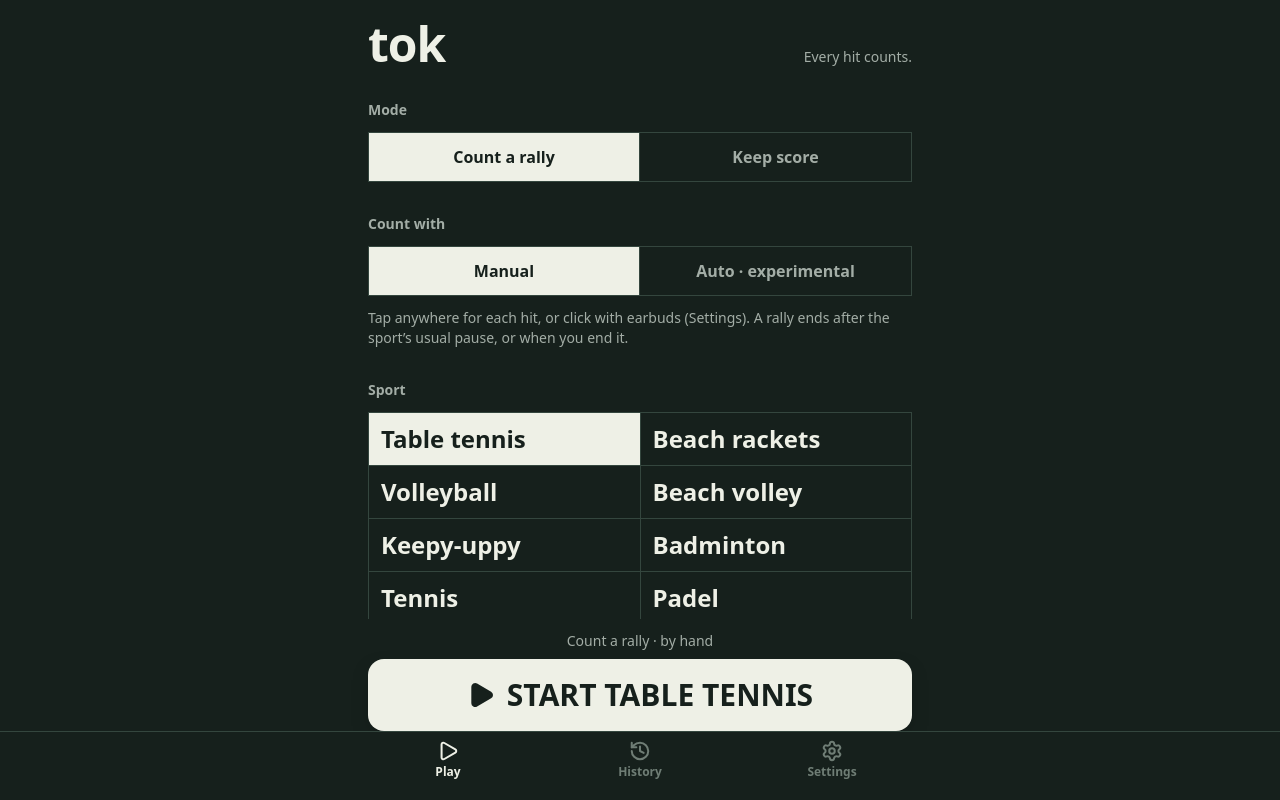
it: the counting mode can be switched mid-session without losing the rally
The width and height of the screenshot is (1280, 800).
Click the button "Start table tennis". click: (640, 695)
box: [368,659,912,731]
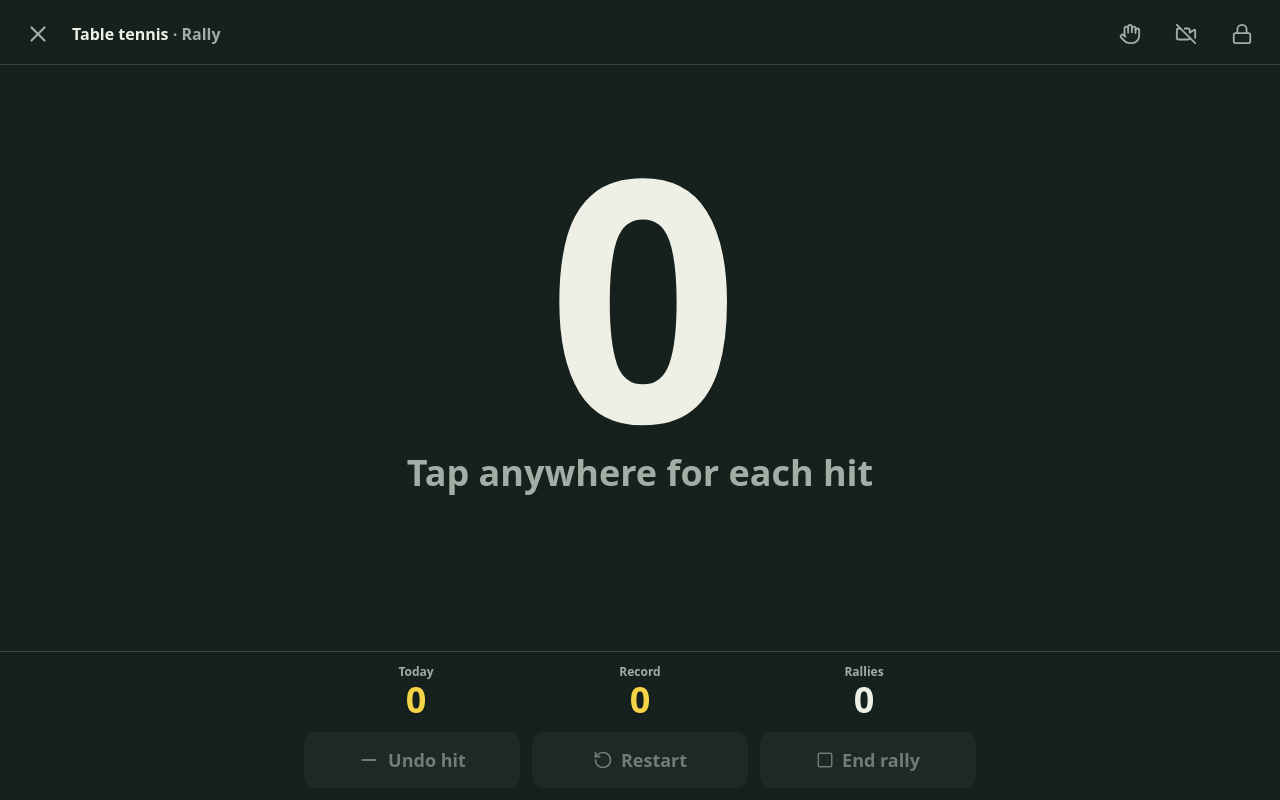
Click the button named "add a hit". click: (640, 358)
box: [0,65,1279,651]
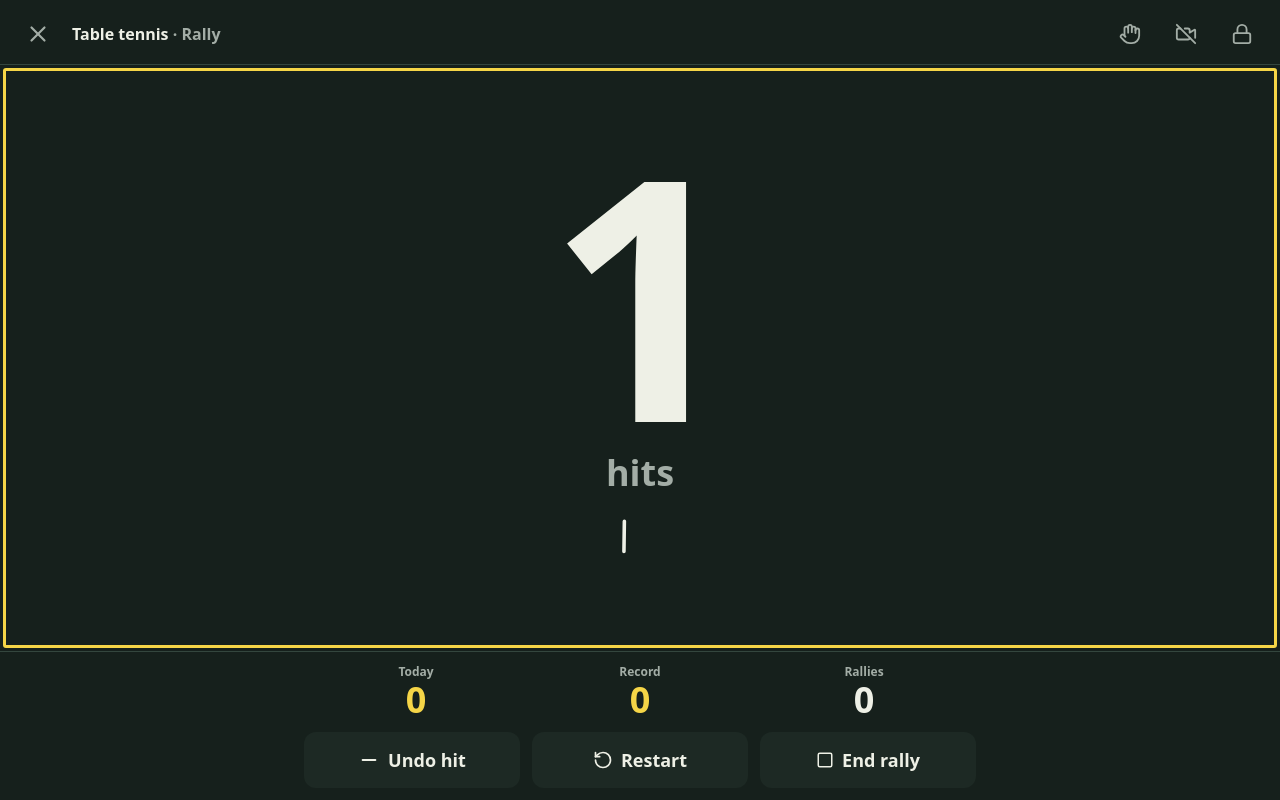
Click the button named "add a hit". click: (640, 358)
box: [0,65,1279,651]
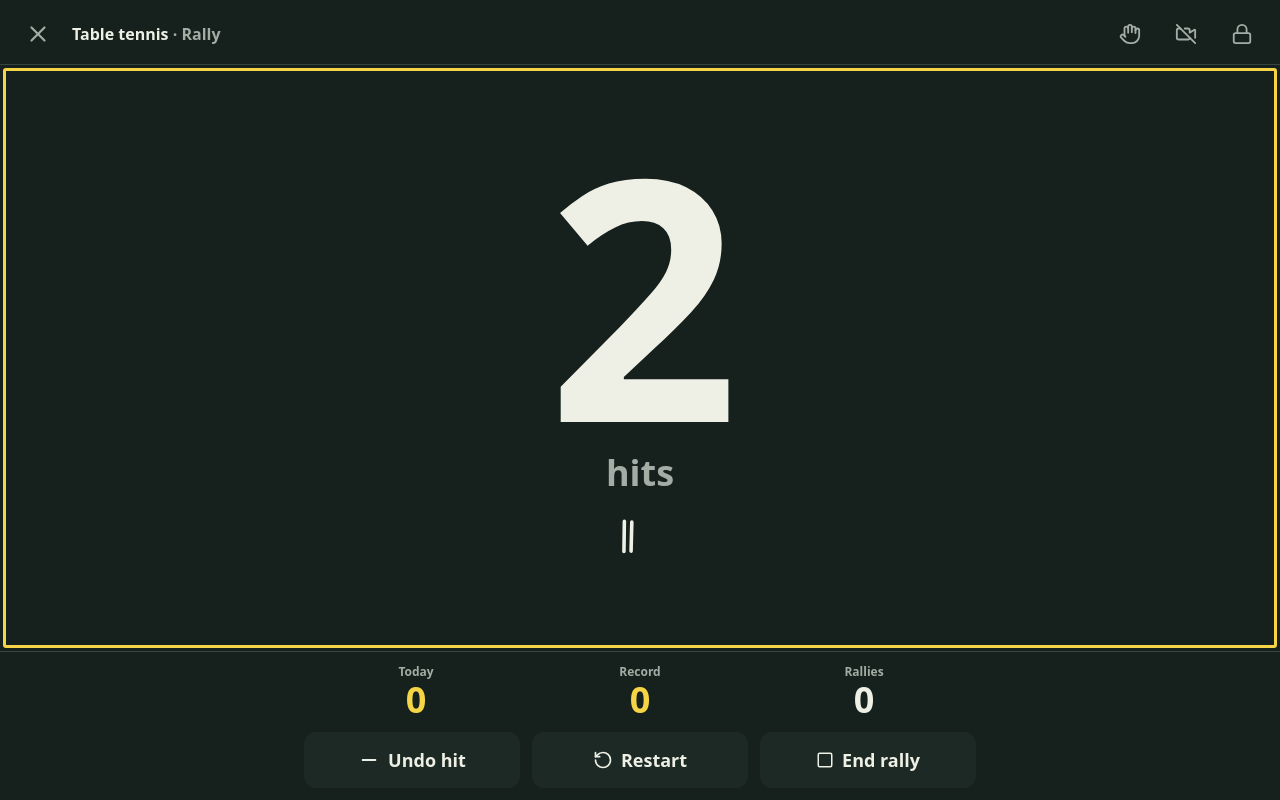
Click the button named "Counting by hand. Switch to Auto". click: (1130, 34)
box: [1108,12,1152,56]
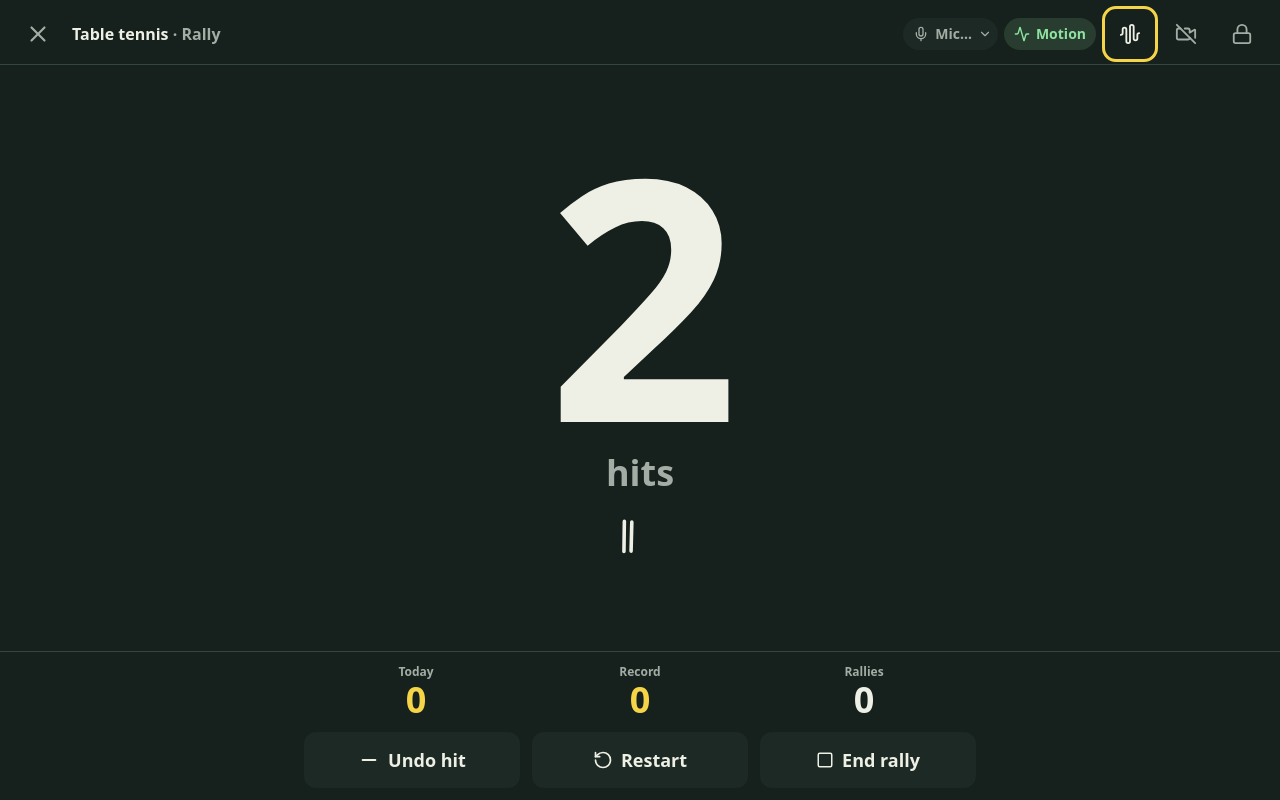
Expected: the button named "current rally: 2" is shown
Expected: the button named "Lock the screen" is shown, [1220,12,1264,56]
Expected: the button named "Counting with sensors. Switch to Manual" is shown, [1108,12,1152,56]
